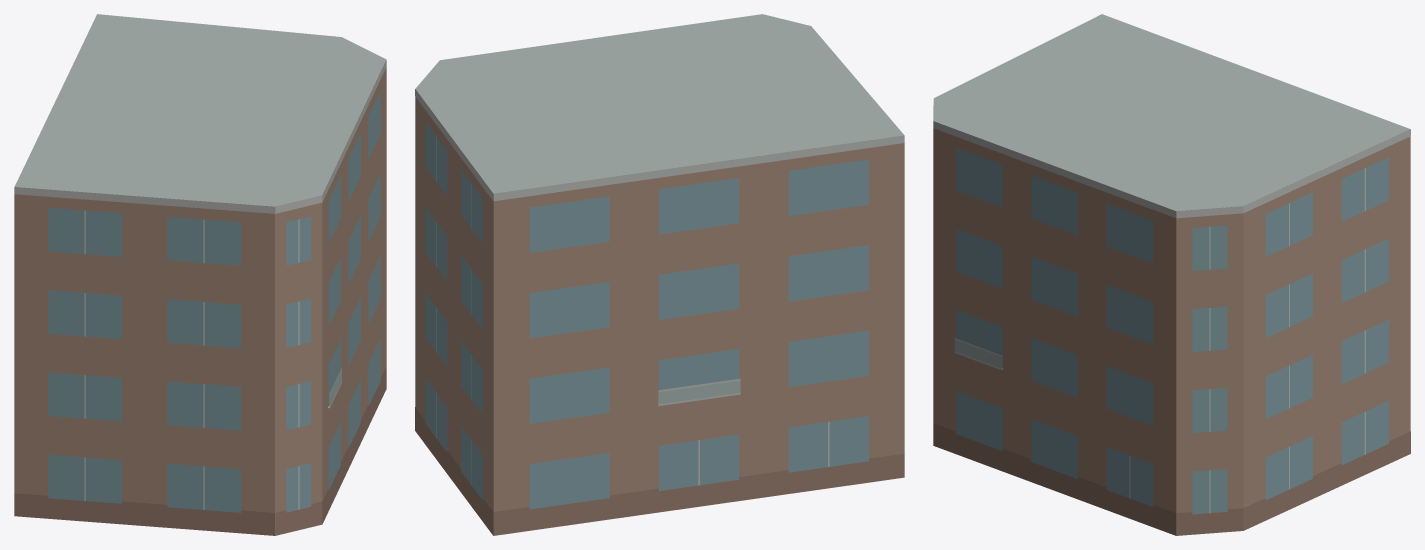
File: survey-upis-32667551.glb
3 renders of one model, left to right at view 1: azimuth 30°, elevation 25°; view 2: azimuth 150°, elevation 25°; view 3: azimuth 270°, elevation 25°, orthographic. The views are drawn at different scales.
Visible parts, largest first — view 1: survey-upis-32667551.tmp; view 2: survey-upis-32667551.tmp; view 3: survey-upis-32667551.tmp.
Part boxes in pixels (x1,y1,x2,y2): survey-upis-32667551.tmp: [14, 14, 386, 535]; survey-upis-32667551.tmp: [415, 14, 904, 535]; survey-upis-32667551.tmp: [933, 14, 1410, 535].
Bounding box in the file's own units: 14.47 × 11.1 × 14.8.
